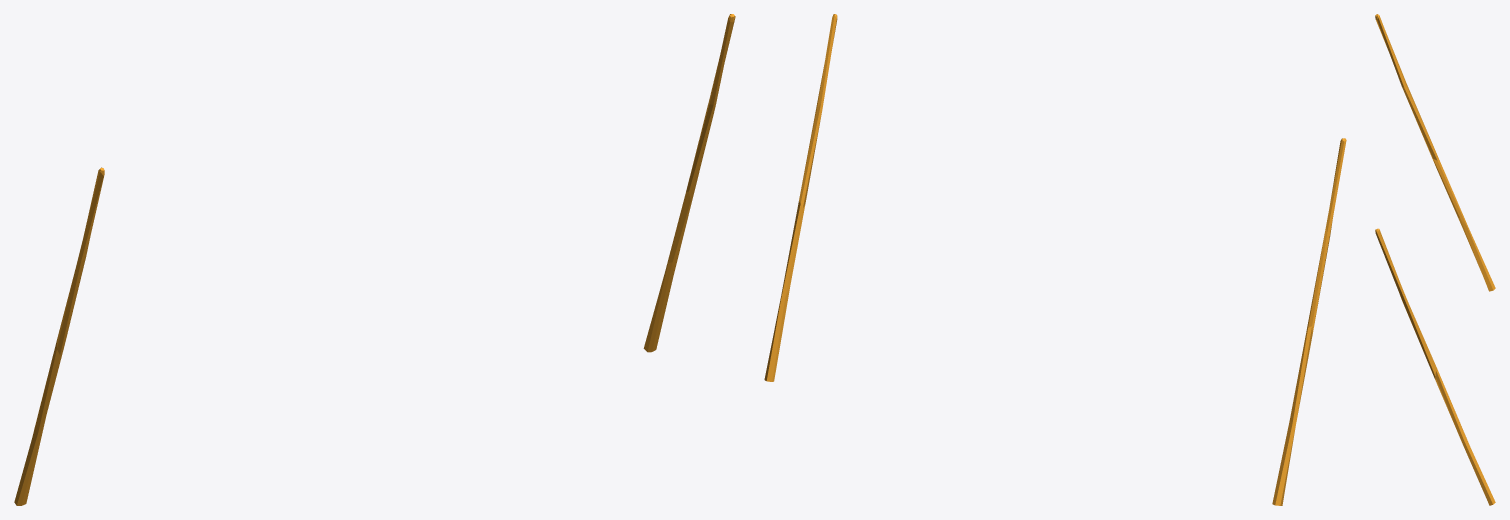
File: SM_Tent_Porch_Wide_Striped_Construct_A_Frame_Fantasy.fbx
3 renders of one model, left to right at view 1: azimuth 30°, elevation 25°; view 2: azimuth 150°, elevation 25°; view 3: azimuth 270°, elevation 25°, orthographic. The views are drawn at different scales.
Visible parts, largest first — view 1: tent-porch-wide-striped-construct-a-frame-fantasy; view 2: tent-porch-wide-striped-construct-a-frame-fantasy; view 3: tent-porch-wide-striped-construct-a-frame-fantasy.
Part boxes in pixels (x1,y1,x2,y2): tent-porch-wide-striped-construct-a-frame-fantasy: (14, 14, 735, 505); tent-porch-wide-striped-construct-a-frame-fantasy: (764, 14, 1346, 505); tent-porch-wide-striped-construct-a-frame-fantasy: (1375, 14, 1495, 505).
Size of the model in its own units: 4.61 by 2.73 by 1.08.
